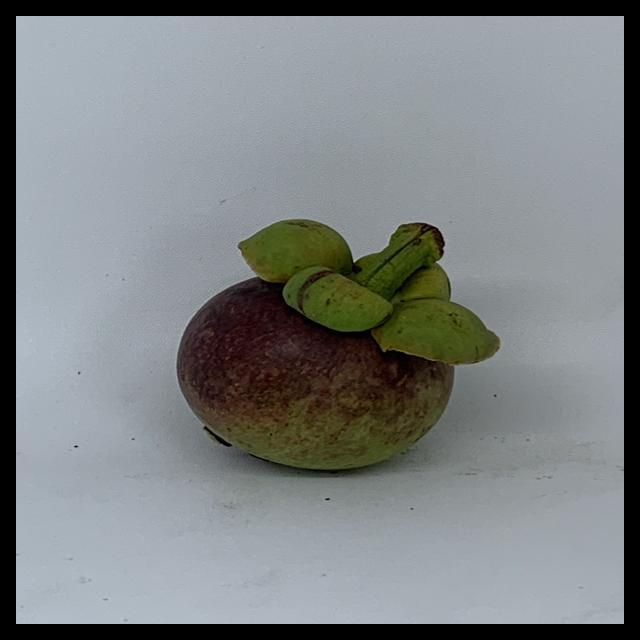mangosteen: (180, 219, 520, 496)
